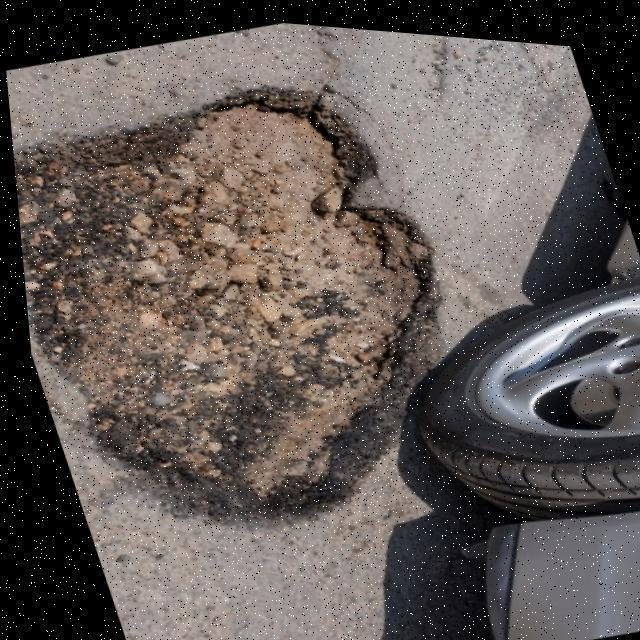Pothole: (15, 74, 445, 536)
